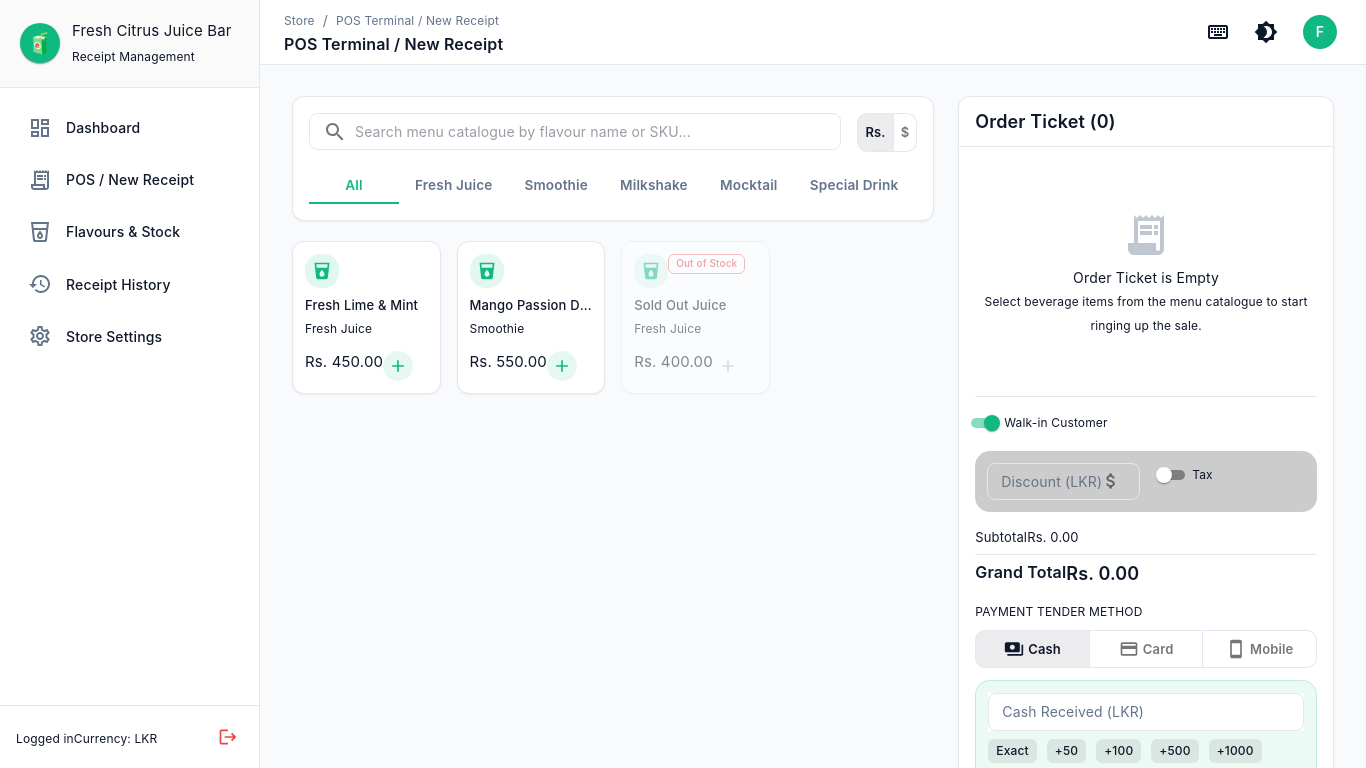
Test: CreateReceipt POS Terminal Suite › removes item from cart when delete button is clicked
What coordinates should you click on to do the following:
click the heading "Fresh Lime & Mint"
I would click on:
 (366, 306)
Its box is [305,296,428,315].
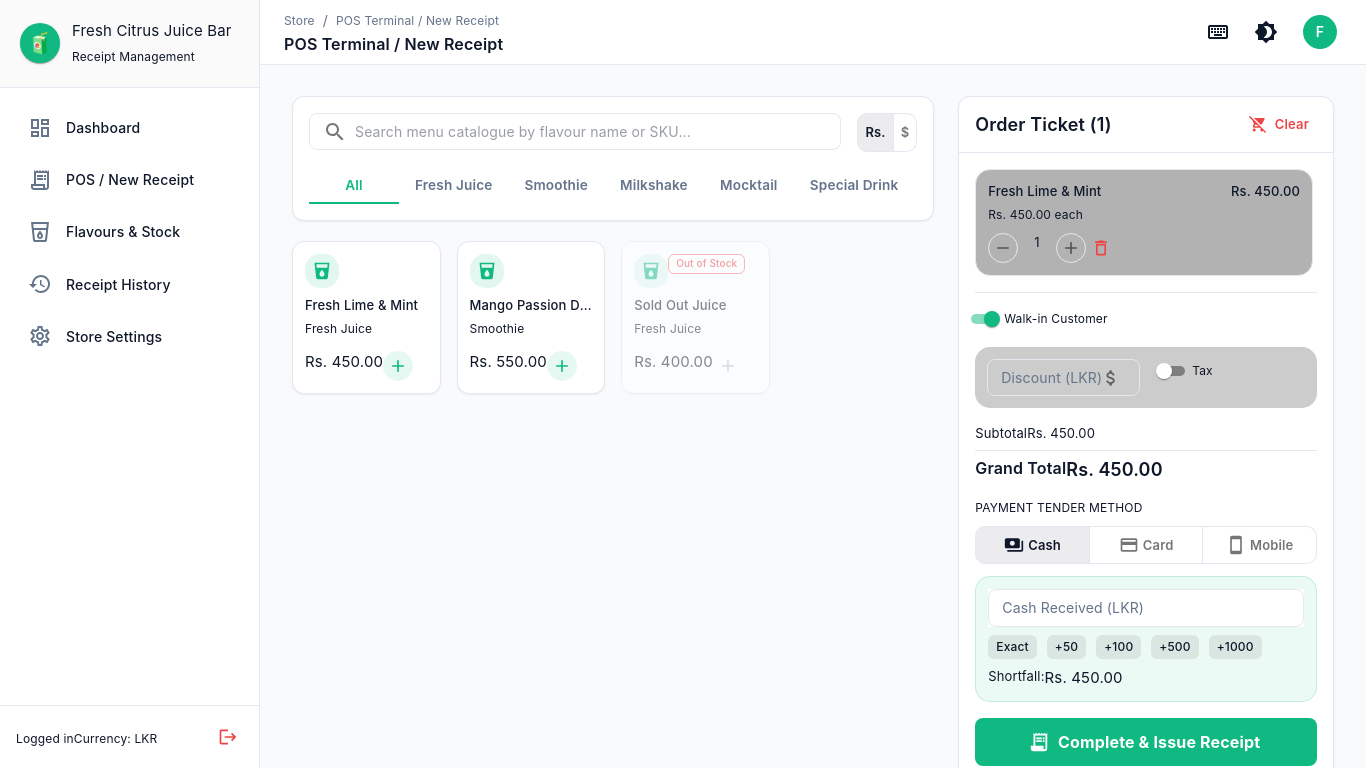
What coordinates should you click on to do the following:
click the button named "remove Fresh Lime & Mint"
I would click on:
 (1101, 248)
Its box is [1086,233,1116,263].
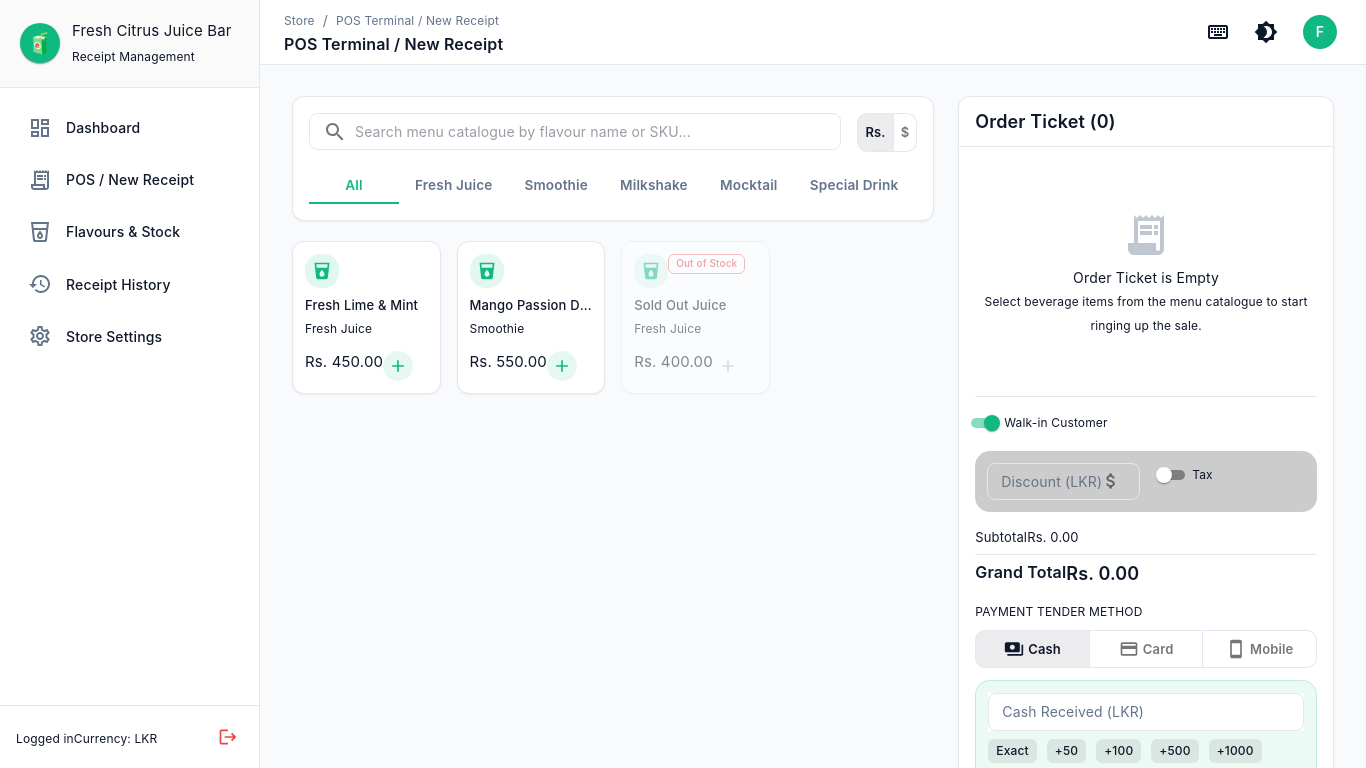
Now the text "Order Ticket is Empty" is shown, box [1073,269,1219,286]
